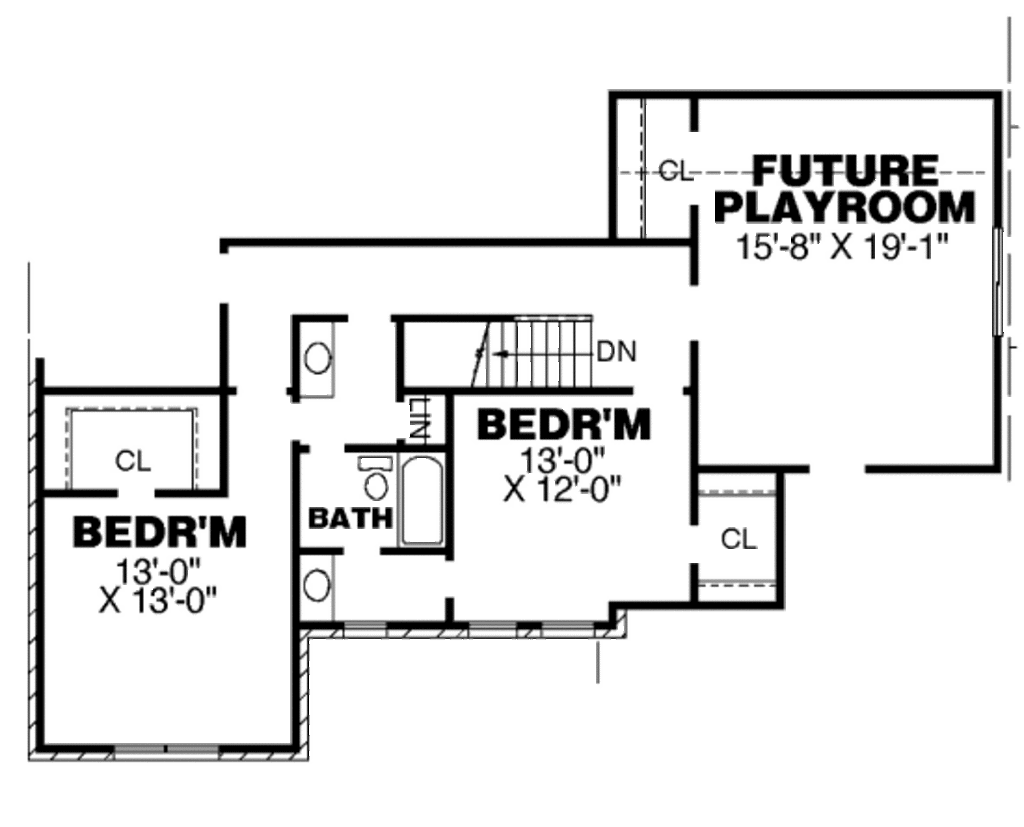large_sink: (353, 450, 397, 511)
small_sink: (298, 318, 340, 401), (298, 550, 344, 624)
stairs: (382, 295, 603, 397)
tub: (400, 446, 447, 547)
window: (986, 223, 1016, 340), (112, 738, 211, 760), (538, 614, 593, 634), (466, 614, 527, 632)
